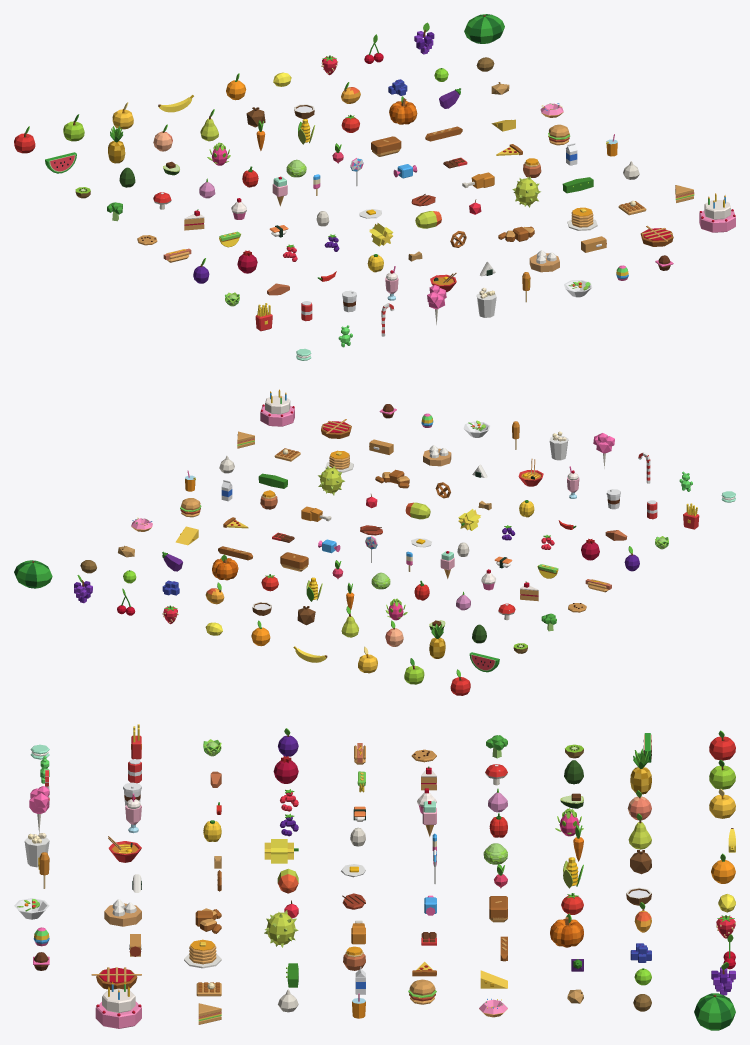
File: Food.fbx
3 views of the same model, one above another, from view 1: azimuth 30°, elevation 25°; view 2: azimuth 150°, elevation 25°; view 3: azimuth 270°, elevation 25° (orthographic). The views are drawn at different scales.
Parts seen in each view (by area): view 1: BirthdayCake, Watermelon, Pumpkin, Durian; view 2: BirthdayCake, Watermelon, Pumpkin, Durian; view 3: BirthdayCake, Watermelon, Pumpkin, Durian, Pancakes, Dumplings, Pie, Pineapple, Starfruit, Popcorn, Burger, Apple (+9 smaller).
Boxes of the visible parts, left/top/right/bottom form: BirthdayCake: left=699, top=193, right=735, bottom=232; Watermelon: left=464, top=14, right=504, bottom=43; Pumpkin: left=389, top=96, right=417, bottom=124; Durian: left=512, top=176, right=540, bottom=207; BirthdayCake: left=260, top=389, right=294, bottom=426; Watermelon: left=14, top=560, right=52, bottom=588; Pumpkin: left=212, top=554, right=238, bottom=580; Durian: left=318, top=466, right=344, bottom=495; BirthdayCake: left=95, top=981, right=141, bottom=1028; Watermelon: left=694, top=993, right=735, bottom=1030; Pumpkin: left=550, top=913, right=583, bottom=947; Durian: left=264, top=910, right=298, bottom=947; Pancakes: left=184, top=939, right=221, bottom=968; Dumplings: left=104, top=899, right=141, bottom=926; Pie: left=91, top=967, right=141, bottom=989; Pineapple: left=630, top=748, right=651, bottom=794; Starfruit: left=264, top=839, right=298, bottom=863; Popcorn: left=24, top=833, right=49, bottom=867; Burger: left=408, top=979, right=436, bottom=1004; Apple: left=709, top=730, right=735, bottom=760.
Size of the model in its own units: 32.26 by 2.55 by 34.41.
Materials: 1 (1 with a texture image).
